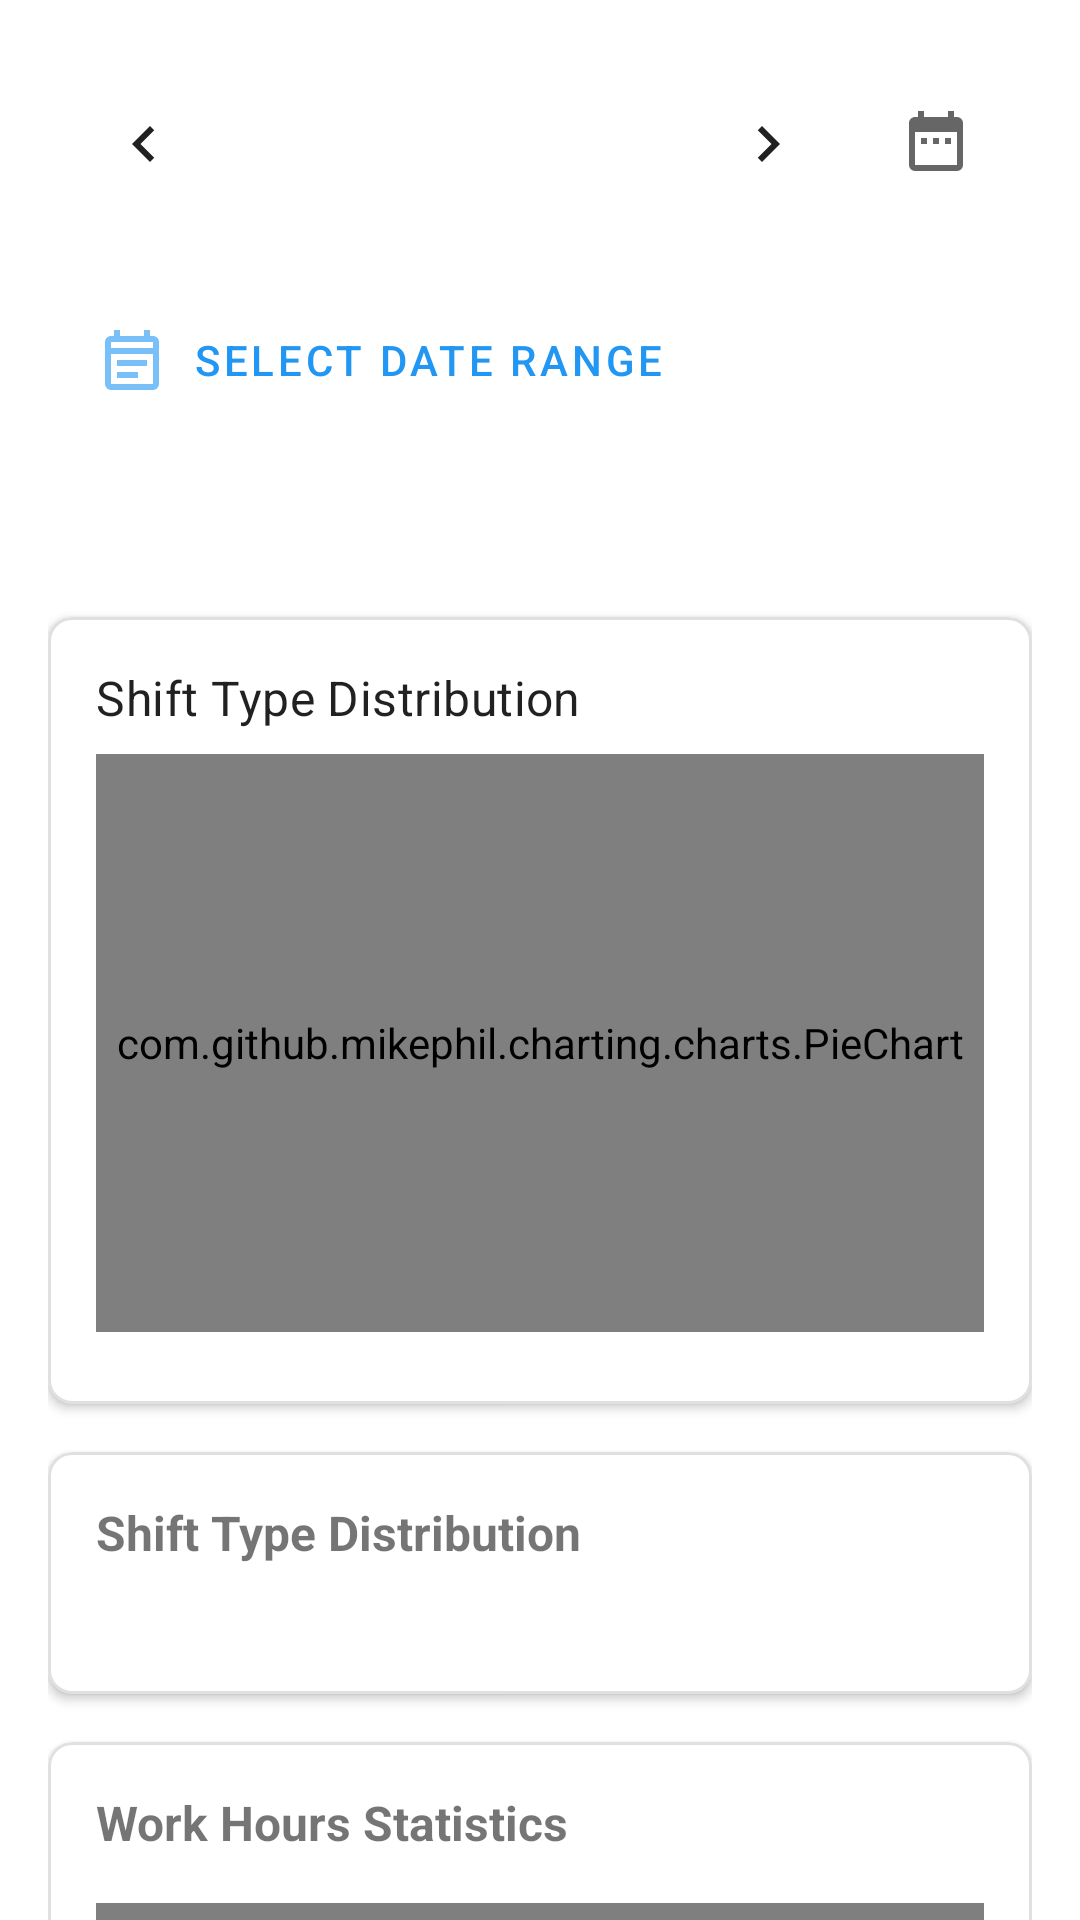

Icons on this 1080px x 1920px Android screen, each with its box as box=[x1, y1, x2, y2]:
Next Month: box=[758, 126, 780, 162]
Previous Month: box=[132, 126, 154, 162]
Quick Select: box=[909, 111, 963, 171]
